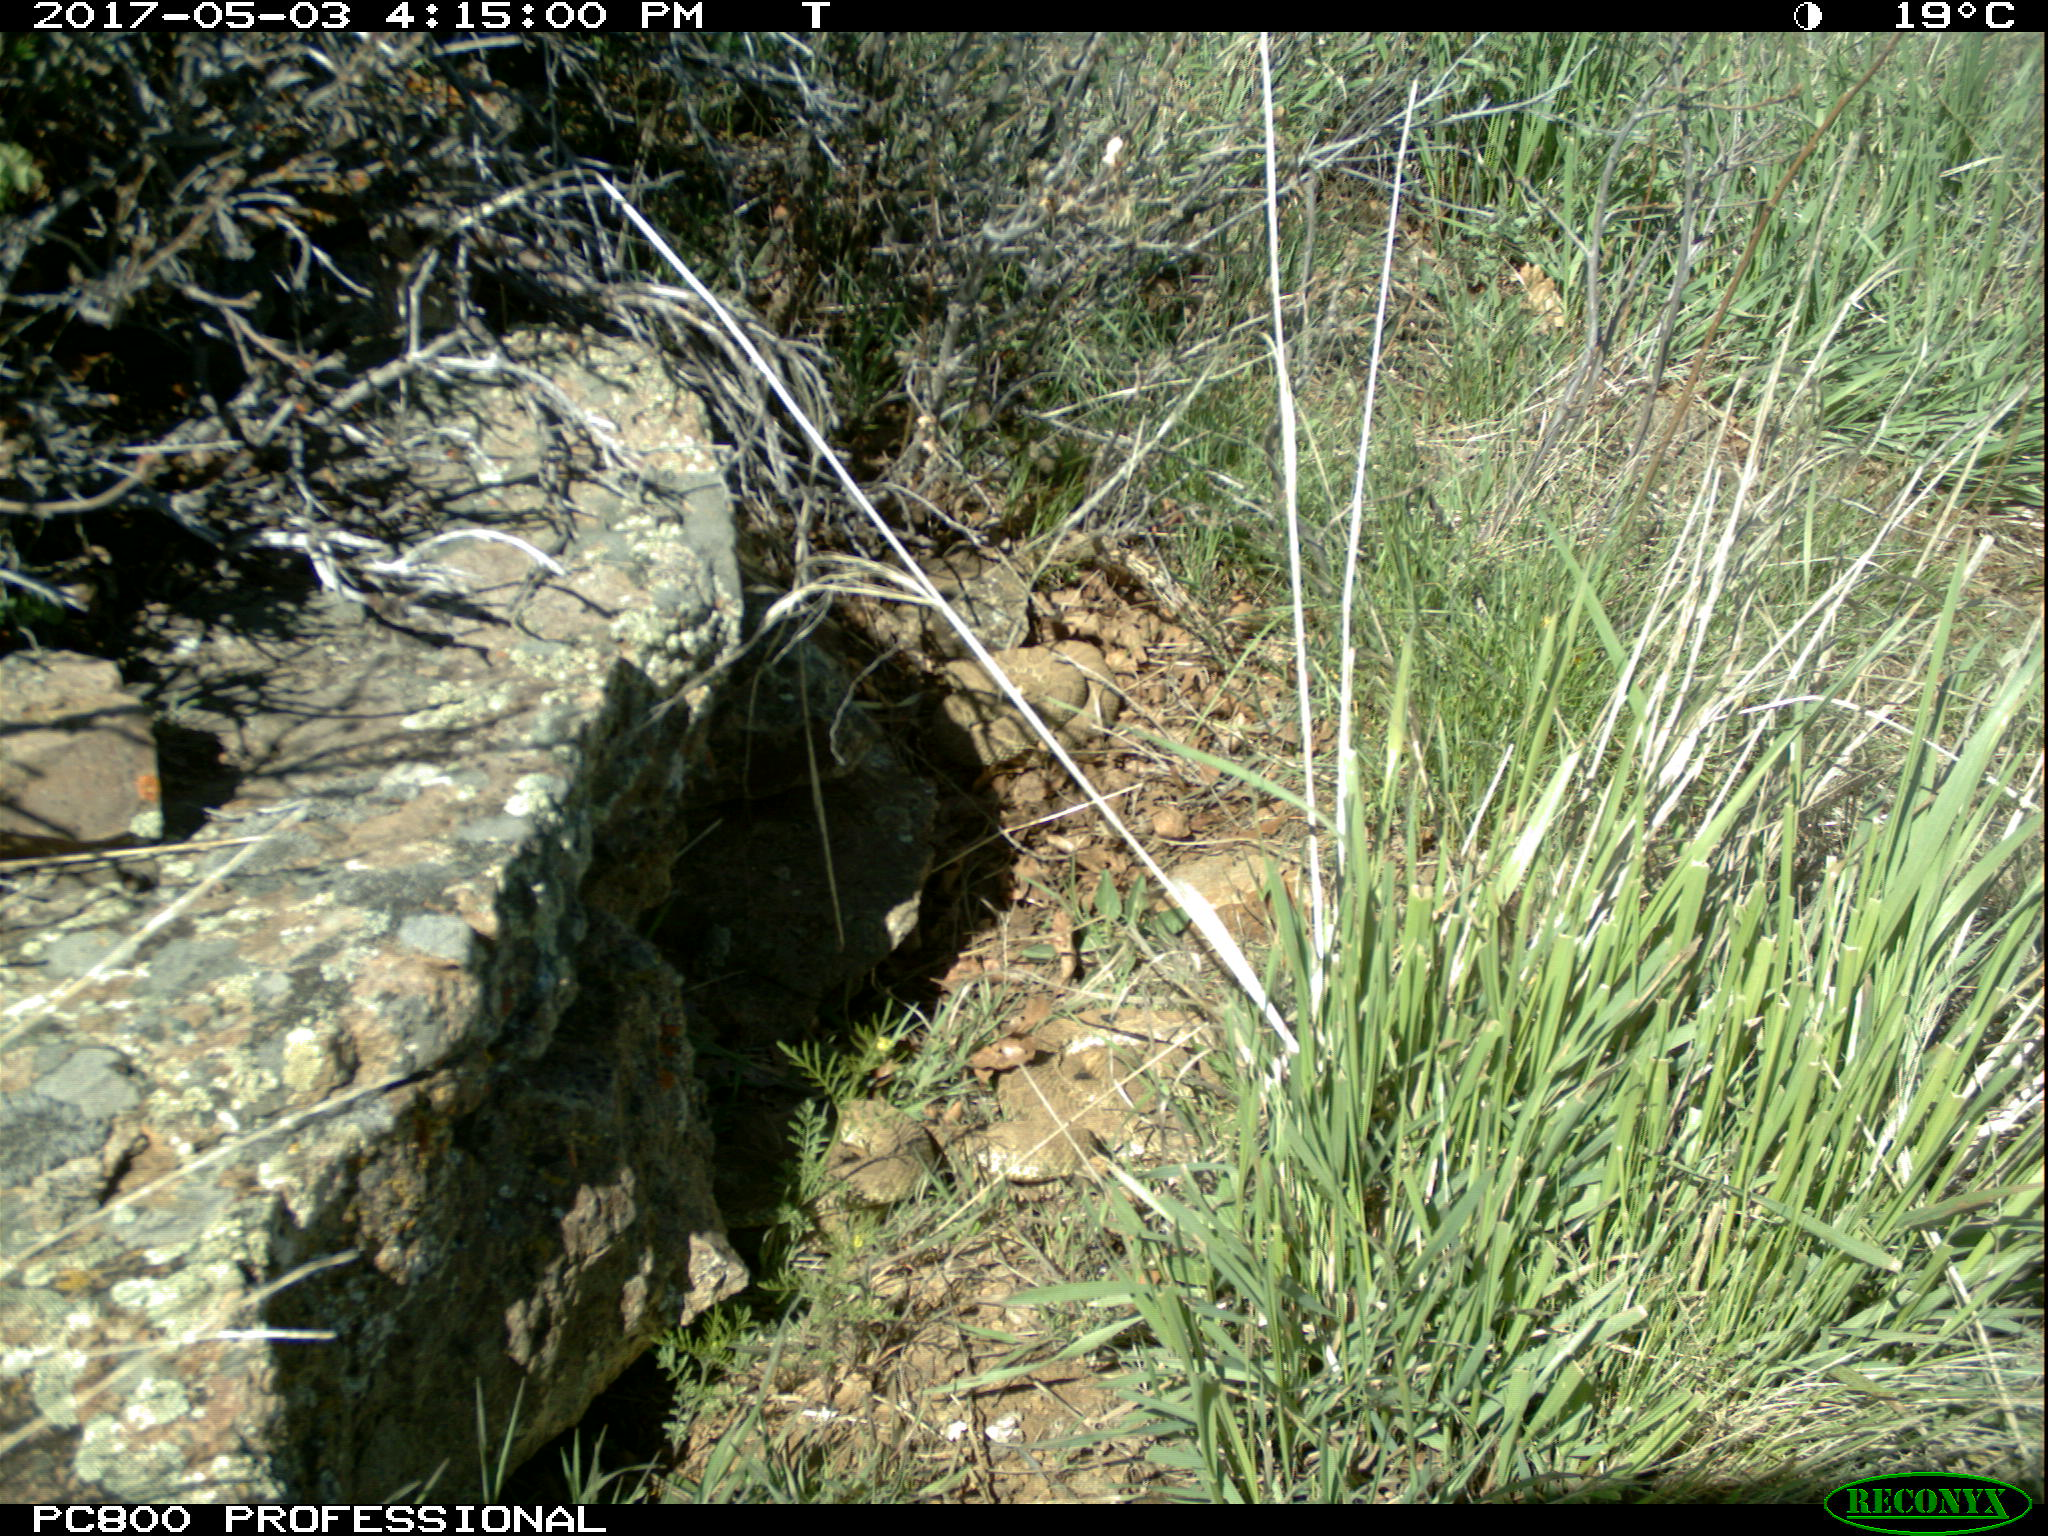snake: (777, 1031, 1190, 1202), (918, 636, 1134, 771)
